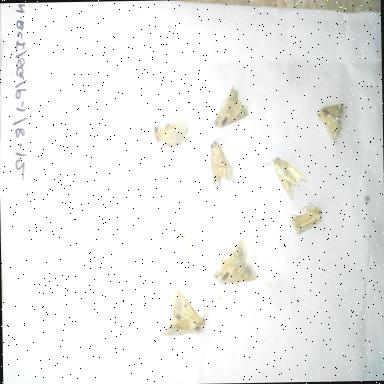abw: (156, 282, 209, 348), (210, 234, 261, 294), (260, 150, 310, 204), (210, 80, 252, 132), (285, 198, 328, 242), (312, 98, 350, 147), (204, 138, 238, 192), (150, 112, 192, 152)
